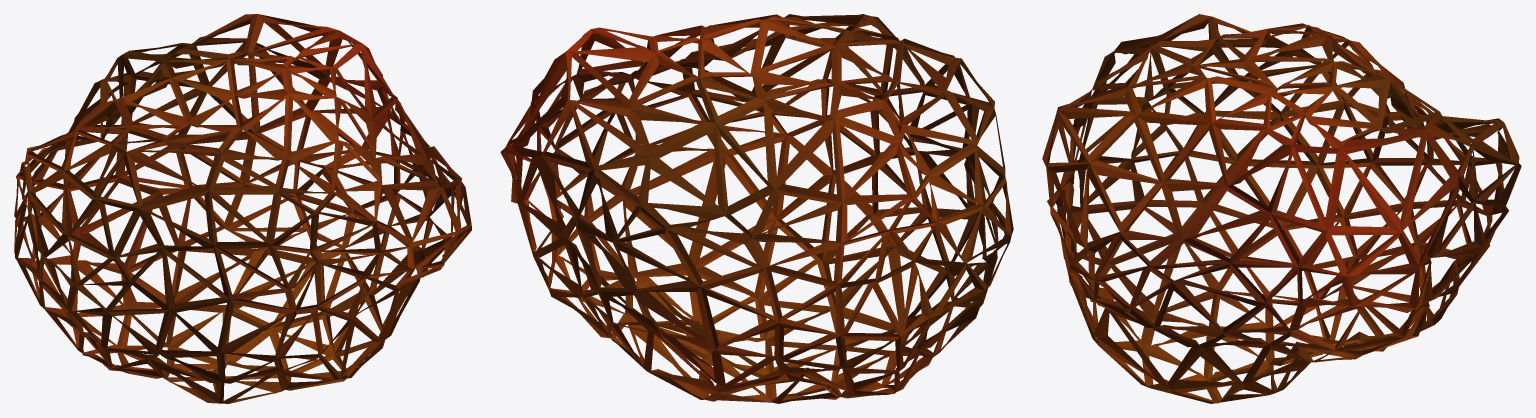
Rendered from tumbleweed.glb.
The picture shows the model from 3 angles, left to right: view 1: azimuth 30°, elevation 25°; view 2: azimuth 150°, elevation 25°; view 3: azimuth 270°, elevation 25°; orthographic projection. The views are drawn at different scales.
Parts seen in each view (by area): view 1: Tumbleweed3; view 2: Tumbleweed3; view 3: Tumbleweed3.
Boxes of the visible parts, x1=… form: Tumbleweed3: x1=14, y1=14, x2=471, y2=403; Tumbleweed3: x1=500, y1=14, x2=1013, y2=403; Tumbleweed3: x1=1042, y1=14, x2=1521, y2=403.
Size of the model in its own units: 197 by 142 by 200.
Materials: 1 (1 with a texture image).
